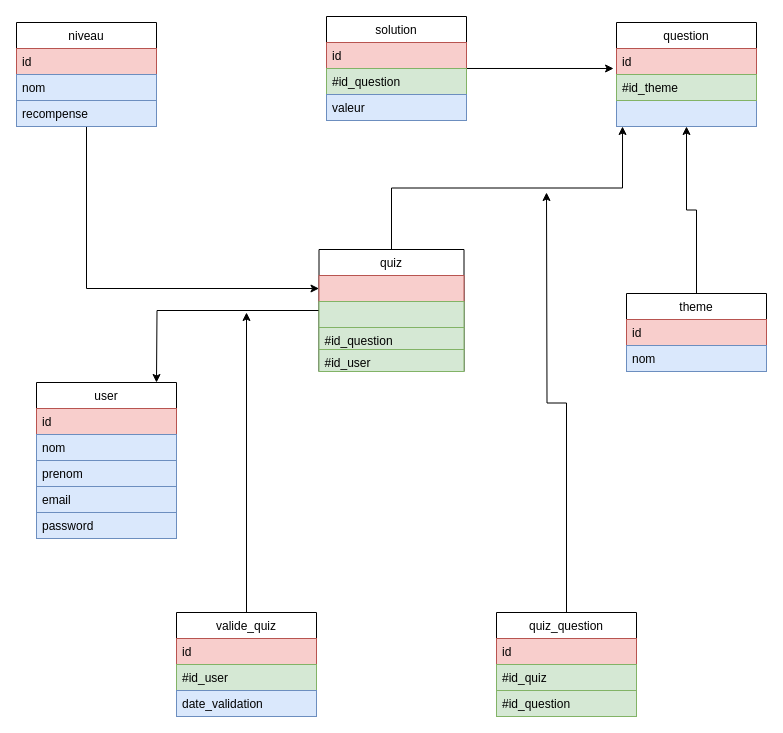
This 783x733 diagram has some shape labels left out. The centre of each missing label's shape, as x and y in pixels:
"#id_niveau" belongs at [391,314].
"description" belongs at [686,113].
"id pk auto_increment" belongs at [391,288].
